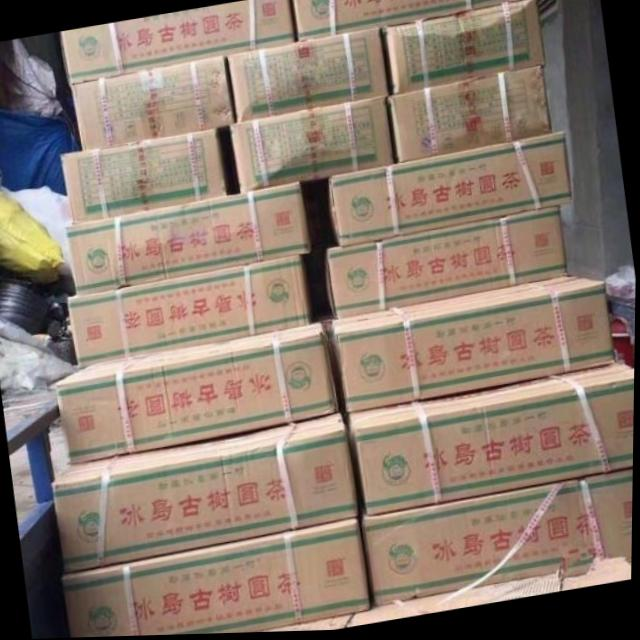box: (53, 414, 361, 574), (349, 365, 636, 518), (55, 324, 340, 465), (329, 278, 618, 413), (365, 471, 634, 609), (64, 519, 373, 638), (330, 135, 573, 250), (68, 257, 314, 369), (327, 208, 569, 321), (67, 183, 311, 295), (60, 0, 297, 85), (230, 97, 395, 195), (388, 69, 553, 165), (61, 130, 227, 225), (382, 0, 545, 96), (70, 58, 235, 151), (228, 30, 389, 124), (293, 0, 524, 45)
